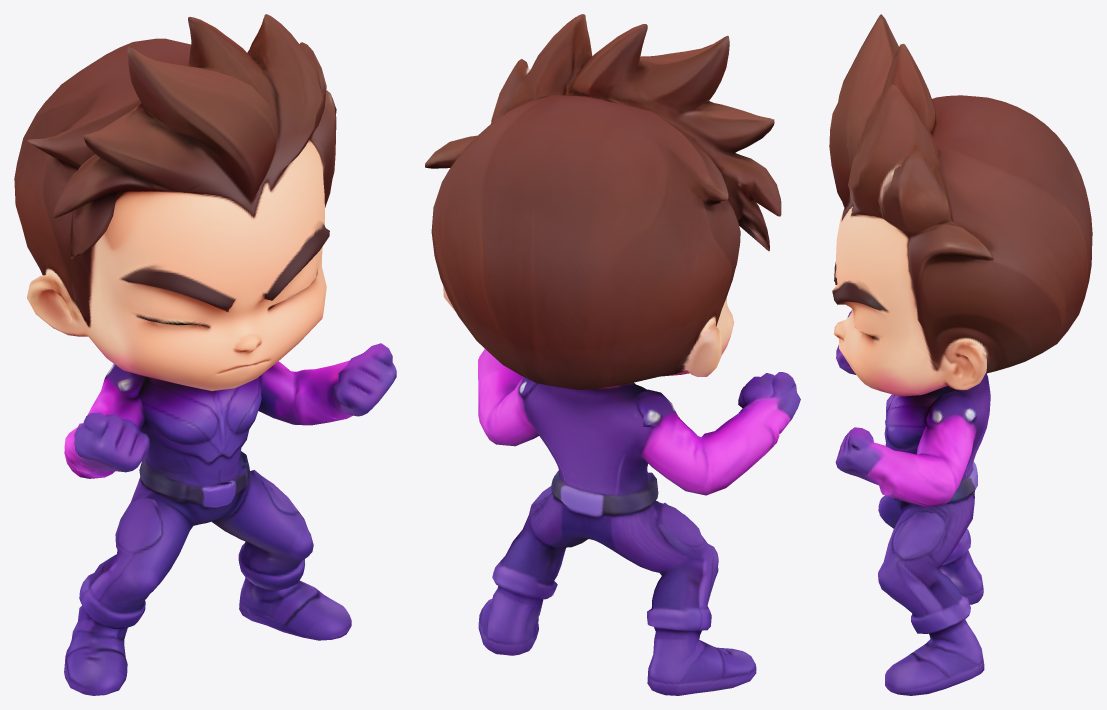
File: body_peter.fbx
3 views of the same model, side by side, from view 1: azimuth 30°, elevation 25°; view 2: azimuth 150°, elevation 25°; view 3: azimuth 270°, elevation 25° (orthographic). The views are drawn at different scales.
Parts seen in each view (by area): view 1: model; view 2: model; view 3: model.
Part boxes in pixels (x1,y1,x2,y2): model: (14,14,396,695); model: (425,14,800,695); model: (829,14,1092,695).
Bounding box in the file's own units: 92.6 × 180 × 73.81.
